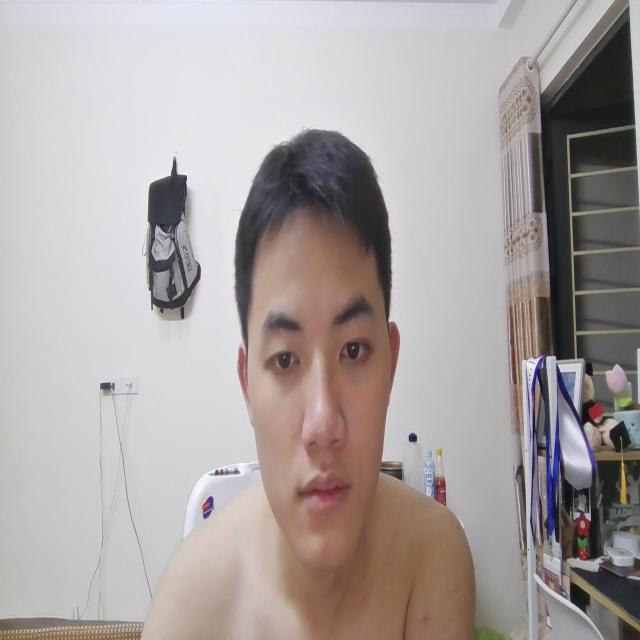student: (228, 123, 411, 592)
